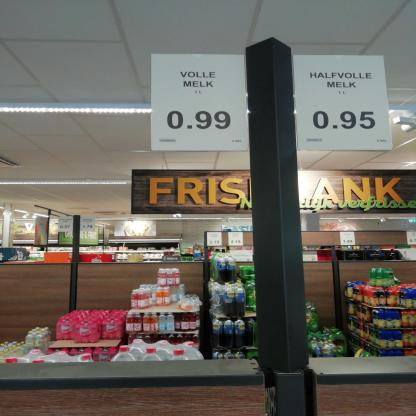prtg: (294, 56, 395, 153), (152, 55, 250, 152)
